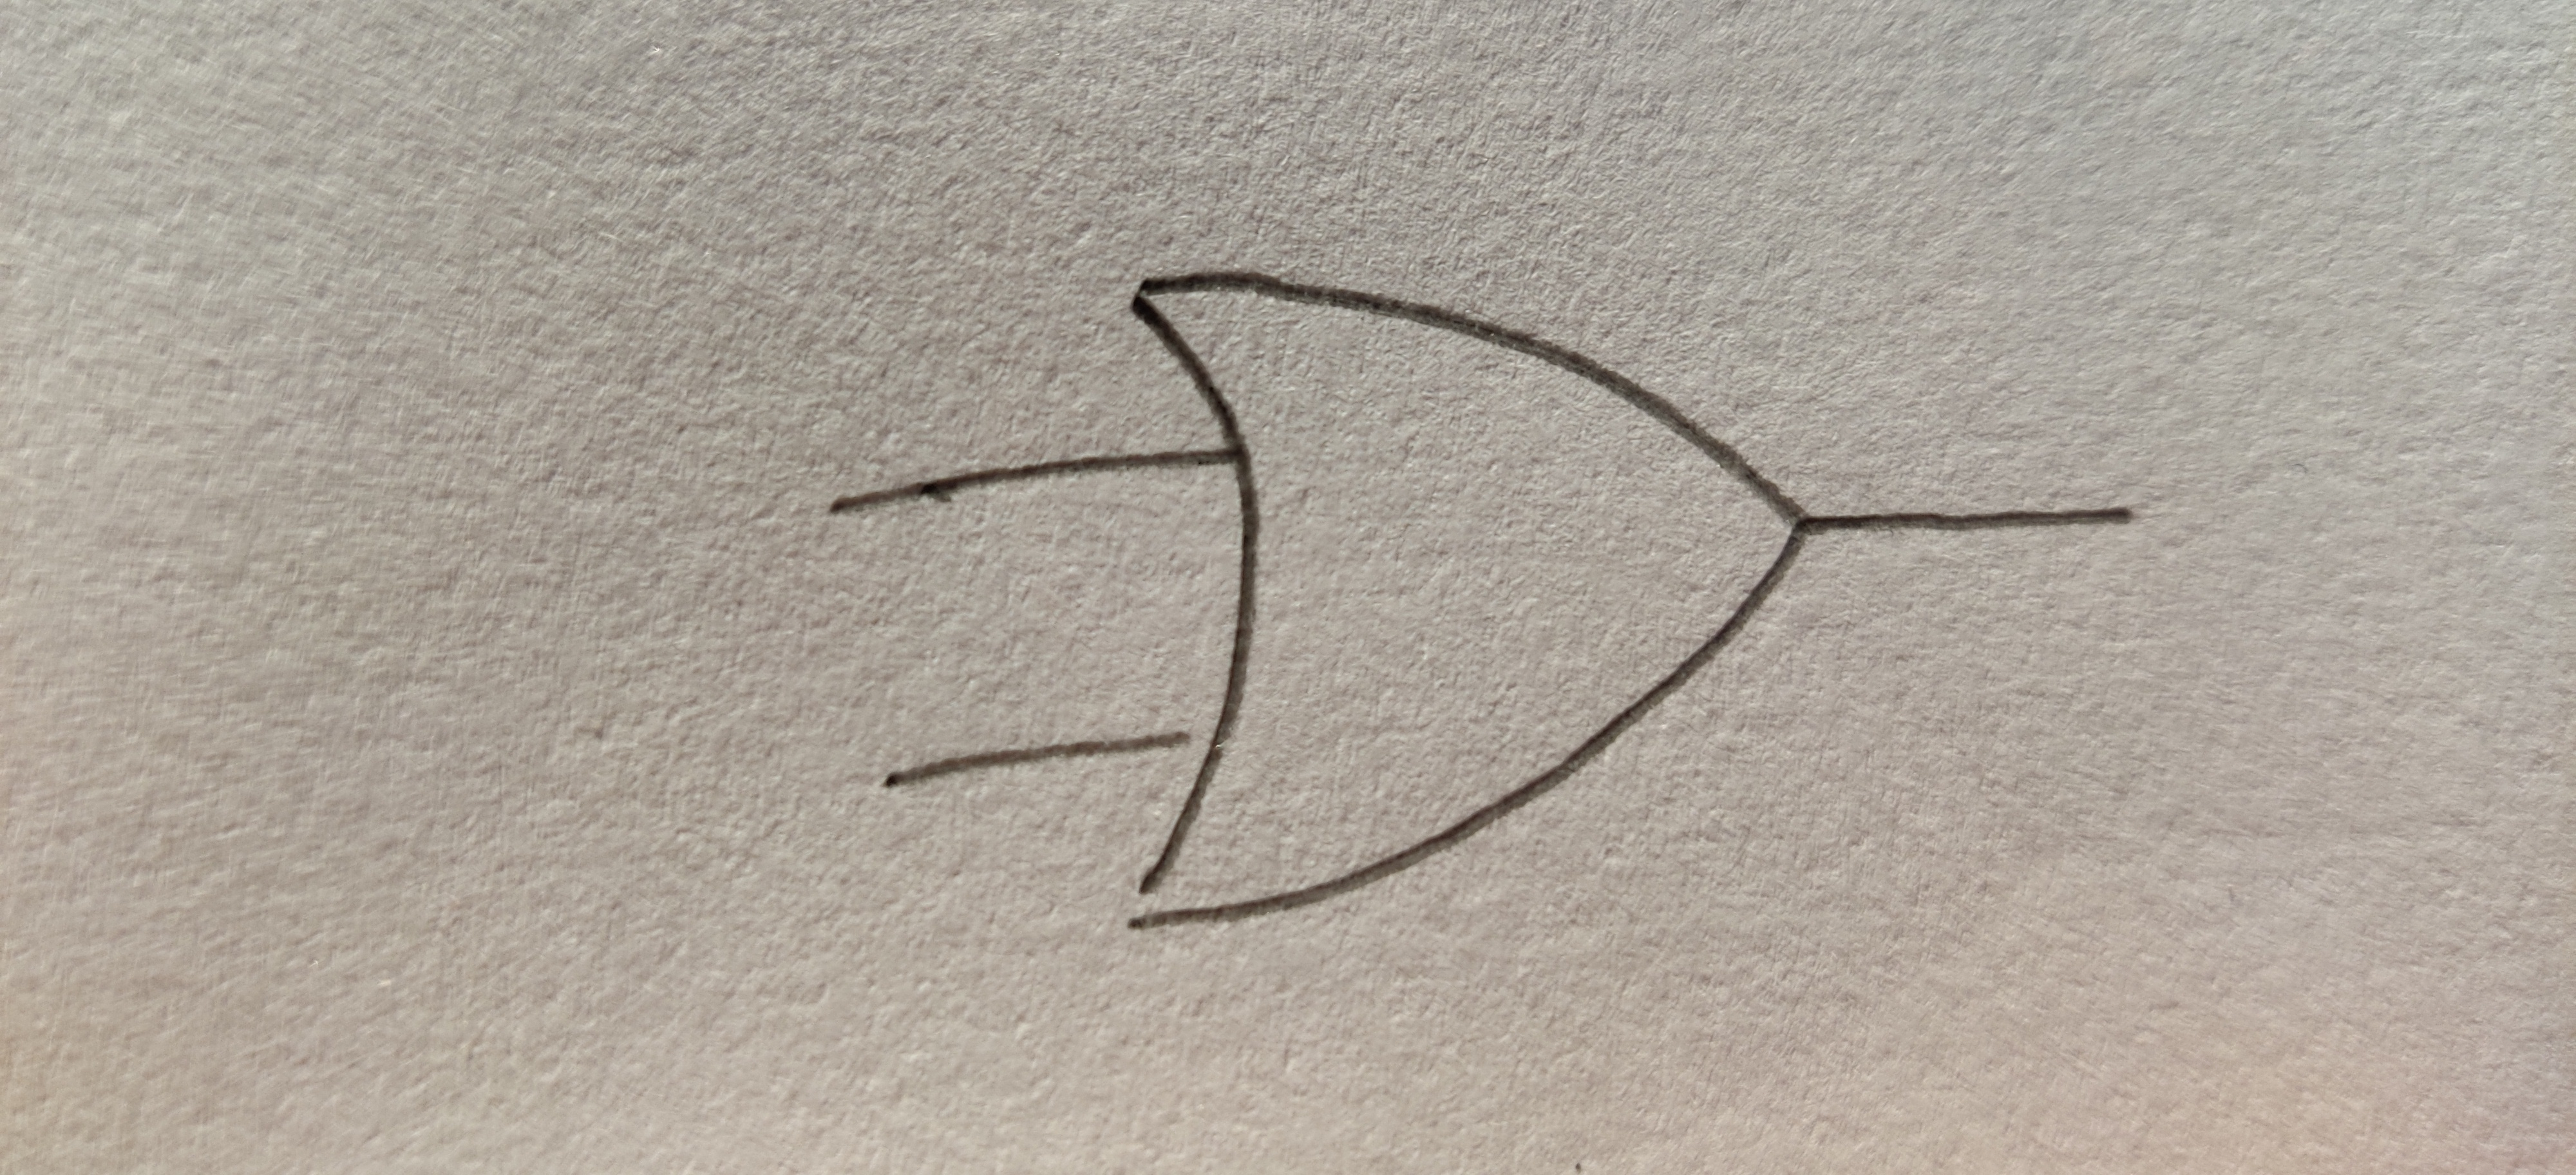or: (1135, 270, 1801, 927)
